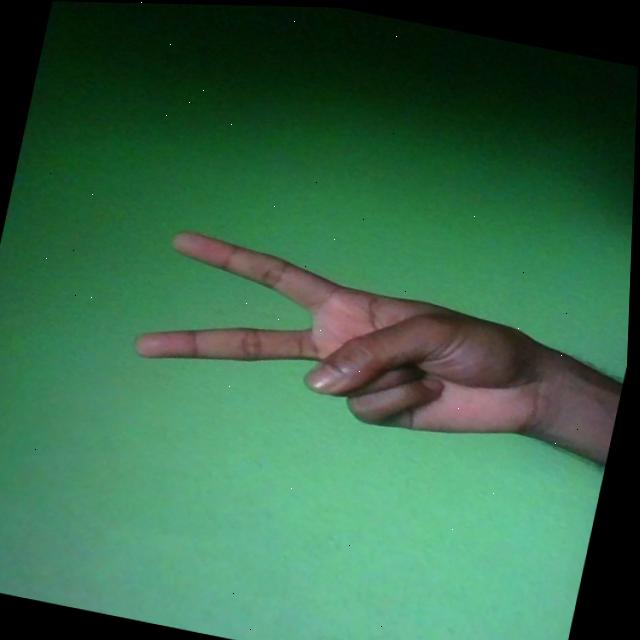Peace: (126, 222, 574, 455)
